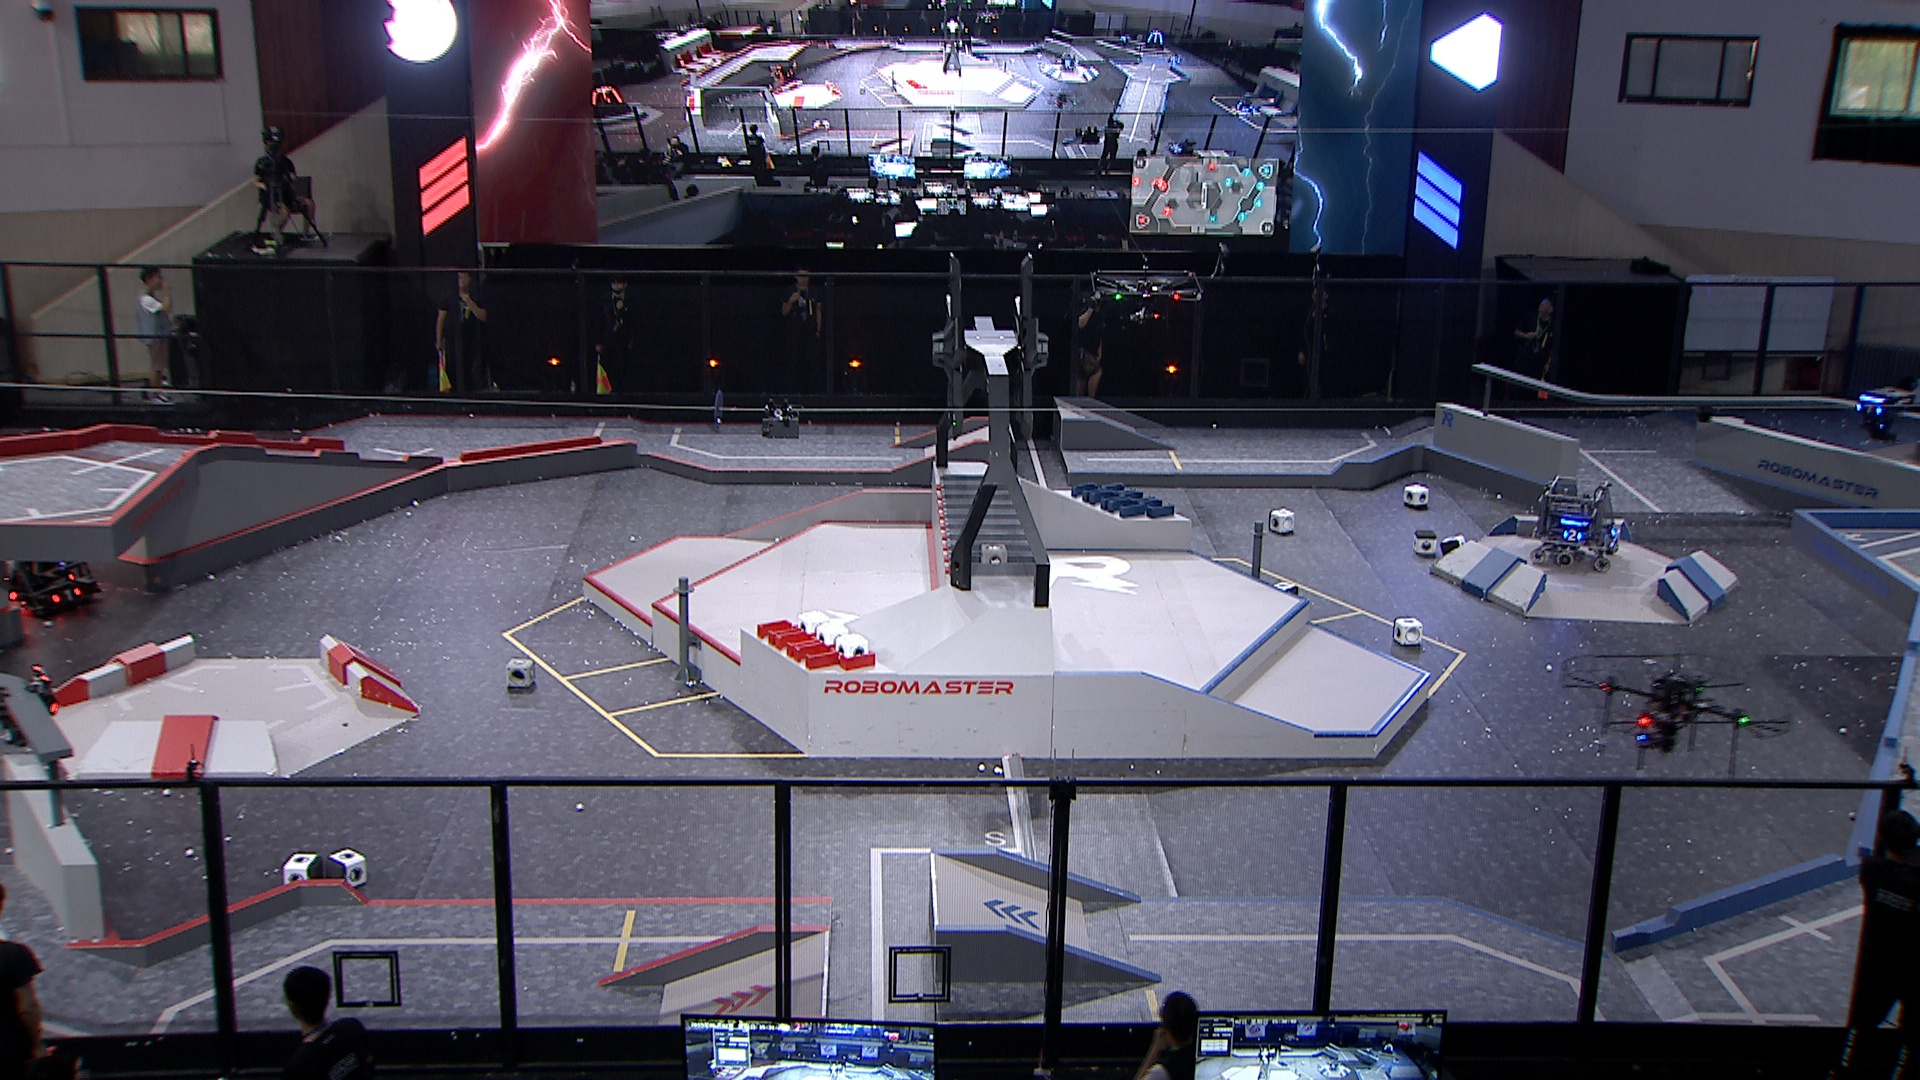armor: (1851, 400, 1884, 419), (49, 588, 84, 605), (1561, 524, 1582, 545), (1607, 520, 1623, 541)
car: (1524, 472, 1627, 572)
ignore: (589, 84, 632, 120), (767, 58, 796, 86), (1147, 26, 1171, 51), (1236, 91, 1259, 115), (1171, 135, 1196, 154), (1058, 53, 1079, 73)
watcher: (1851, 380, 1915, 447)
